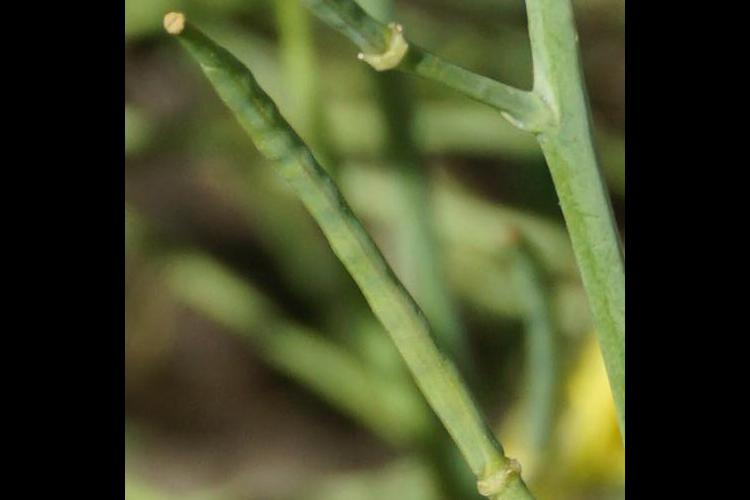pod: (192, 12, 471, 495)
